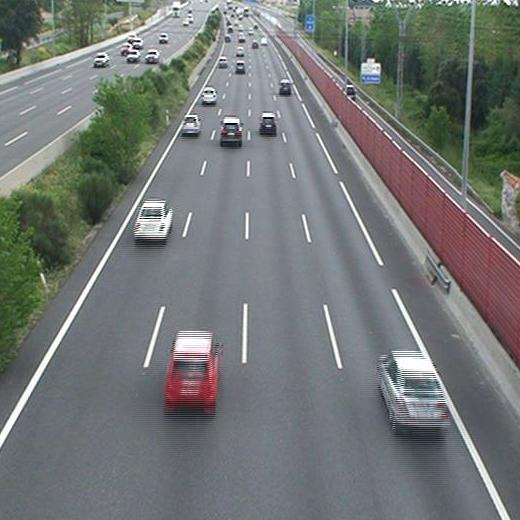car: (379, 353, 445, 427), (165, 332, 216, 403), (134, 201, 171, 237), (220, 117, 242, 143), (259, 113, 277, 132), (182, 116, 199, 132), (202, 88, 216, 103), (279, 79, 291, 94), (234, 61, 246, 72), (218, 56, 227, 67), (235, 47, 244, 56)
